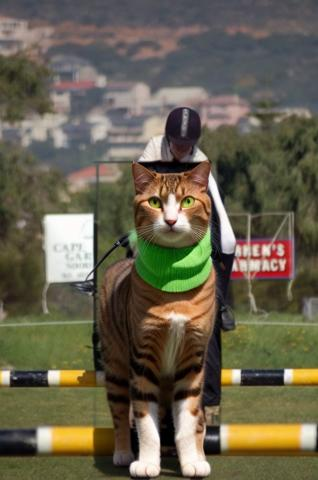cat: (93, 161, 221, 477)
person: (69, 108, 238, 331)
person/foot: (212, 304, 236, 332), (71, 273, 103, 294)
person/head: (166, 107, 202, 159)
